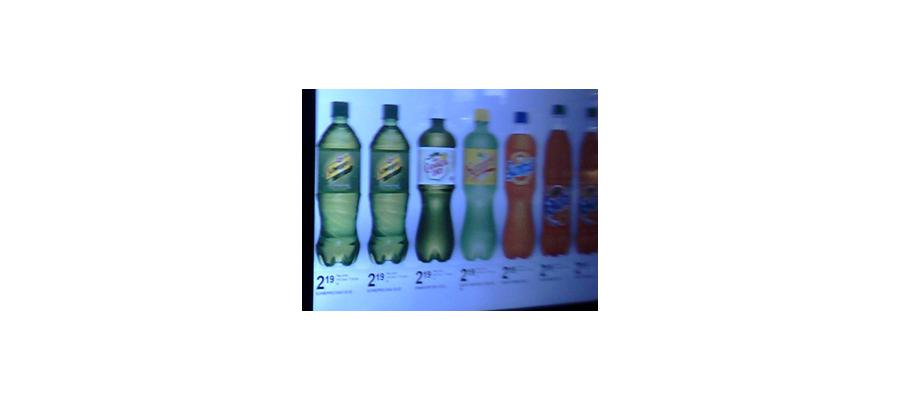bottle: (316, 101, 364, 266), (537, 115, 589, 263), (367, 101, 412, 263), (413, 114, 459, 263), (497, 125, 542, 261), (461, 105, 500, 260)
